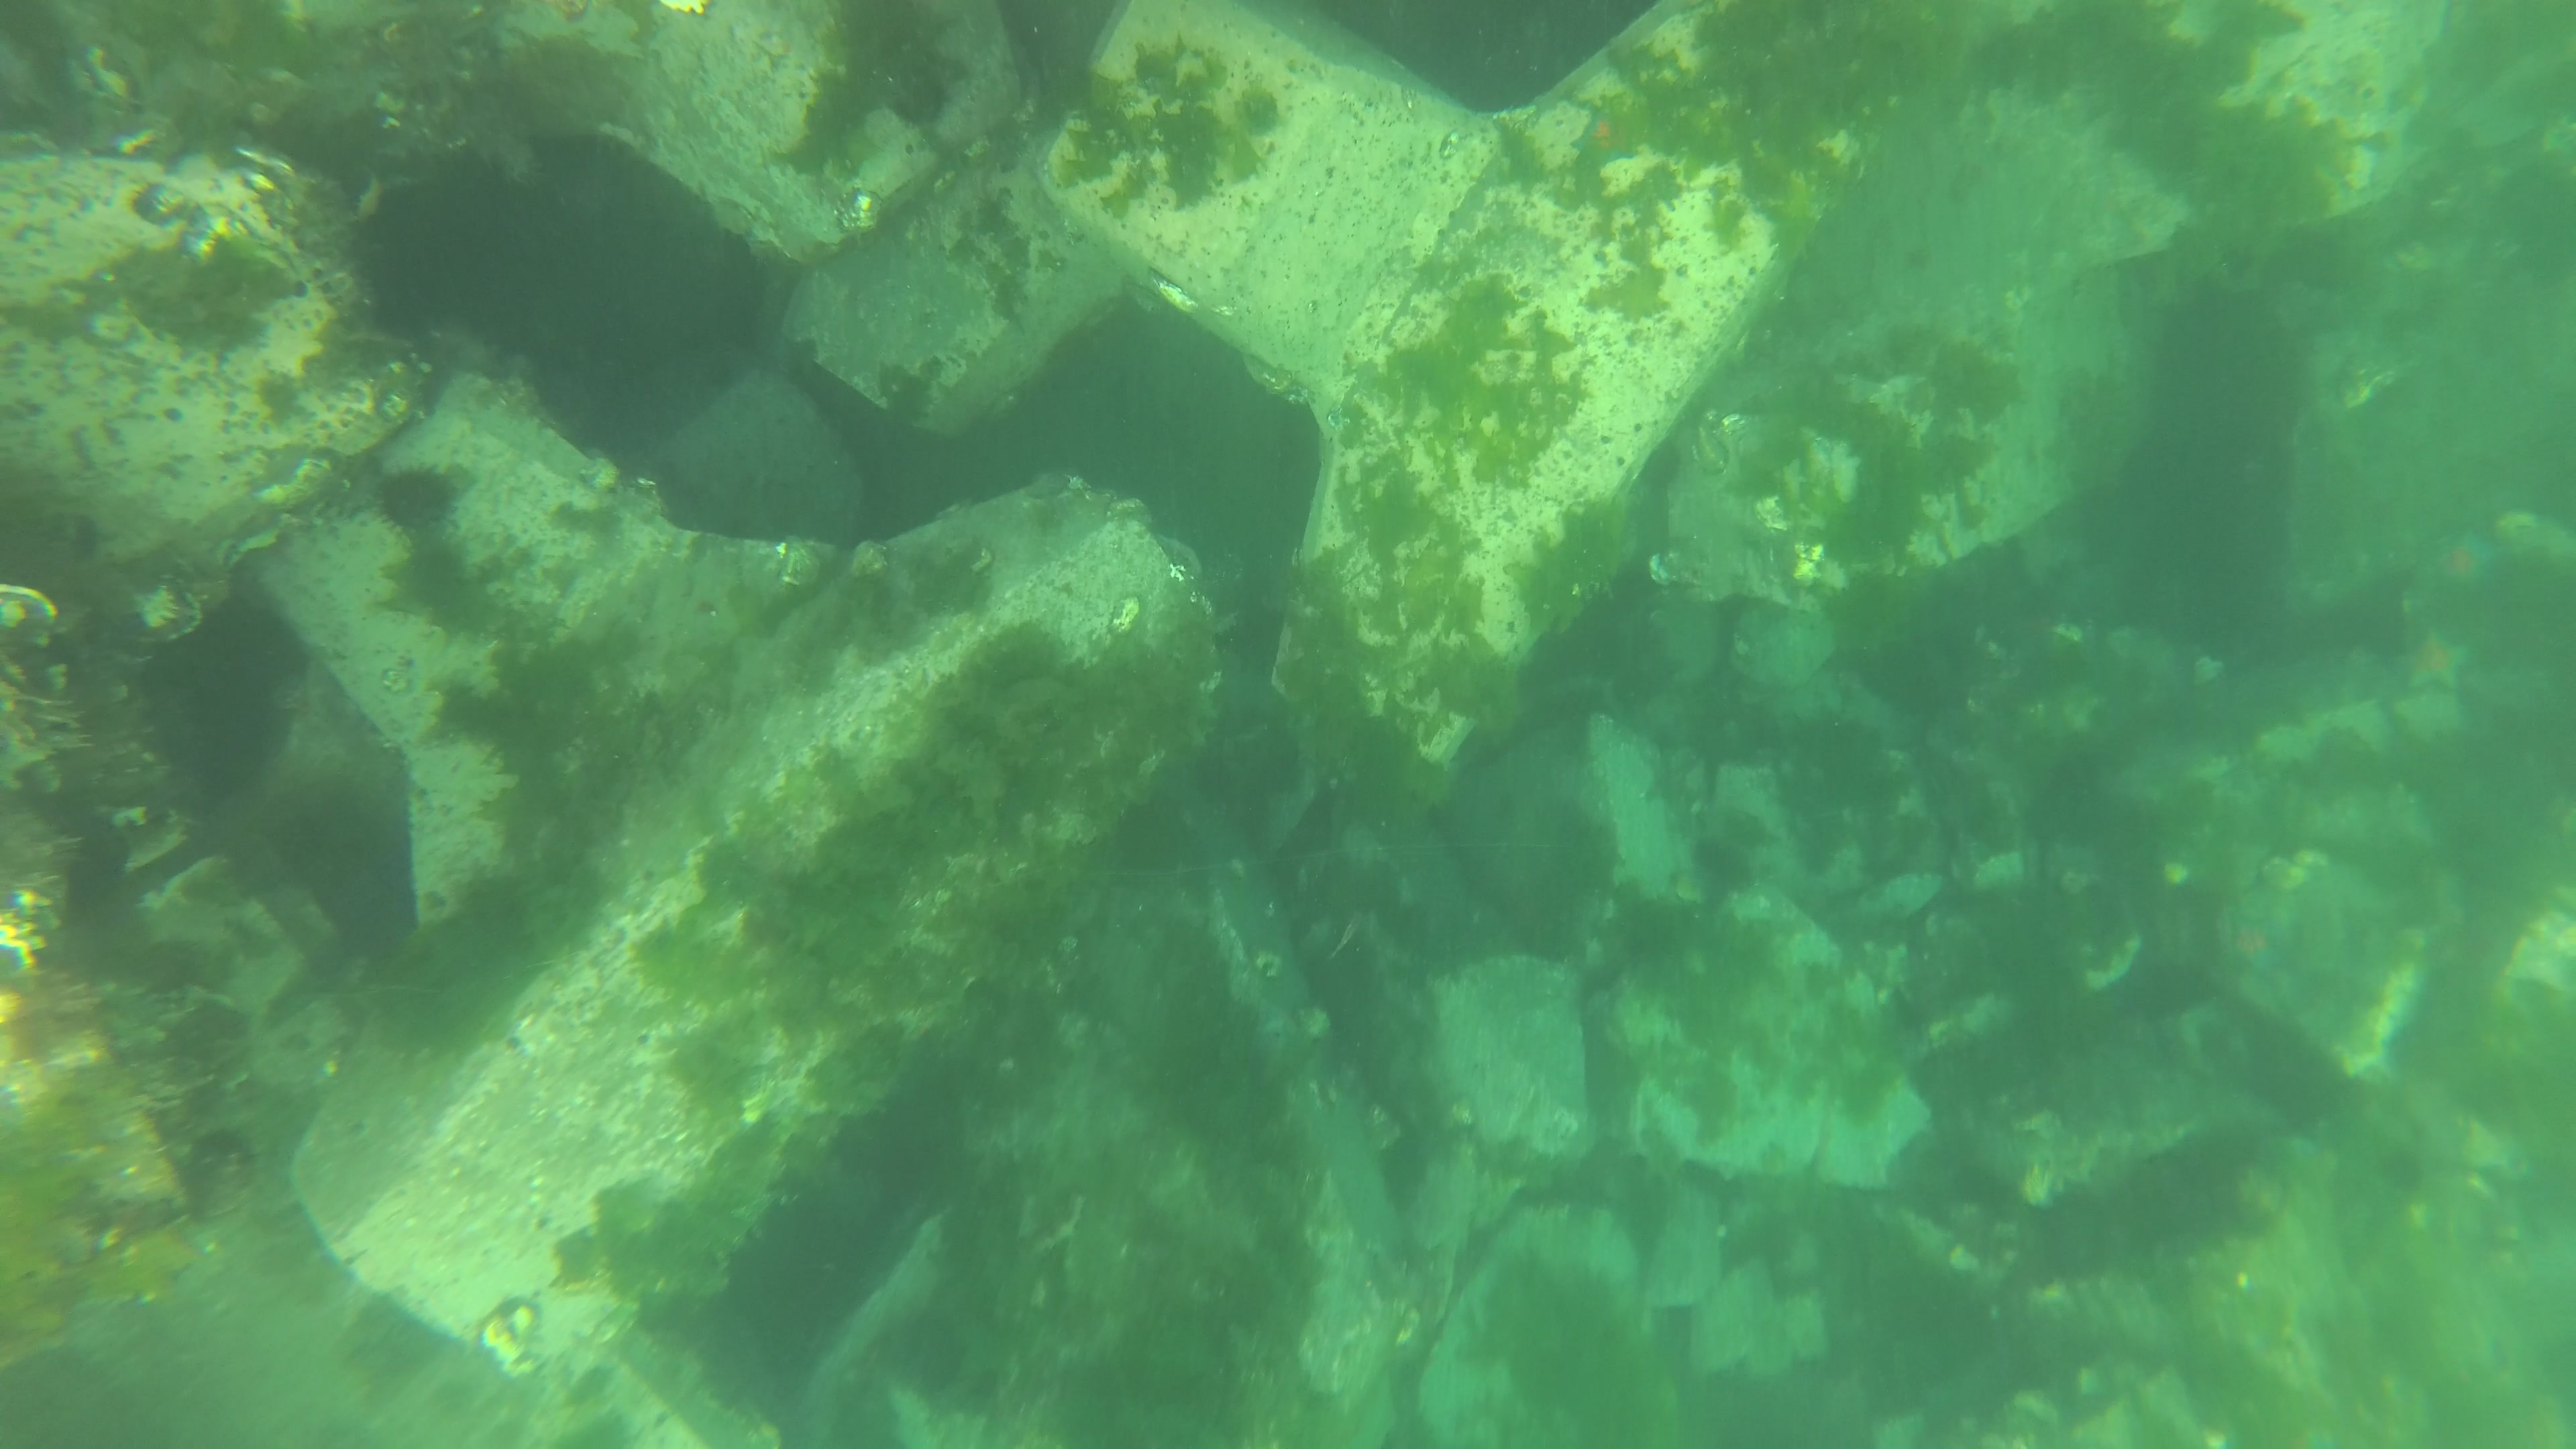echinus: (373, 462, 458, 533), (188, 1125, 260, 1168), (895, 80, 948, 126), (1638, 439, 1683, 490), (2380, 1146, 2424, 1192)
starfish: (2401, 628, 2470, 692), (2440, 529, 2496, 584)
